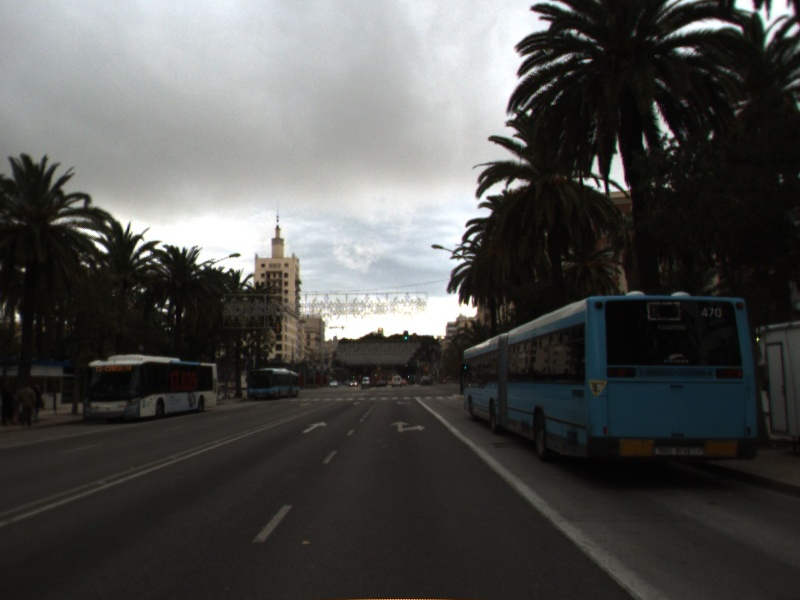STRAIGHT: (300, 419, 329, 435)
STRAIGHT_RIGHT: (388, 419, 427, 434)
